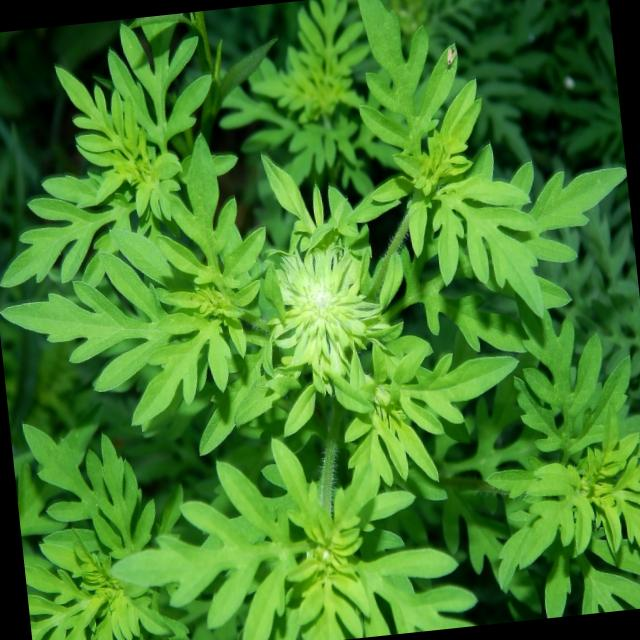ambrosia: (54, 79, 537, 479)
